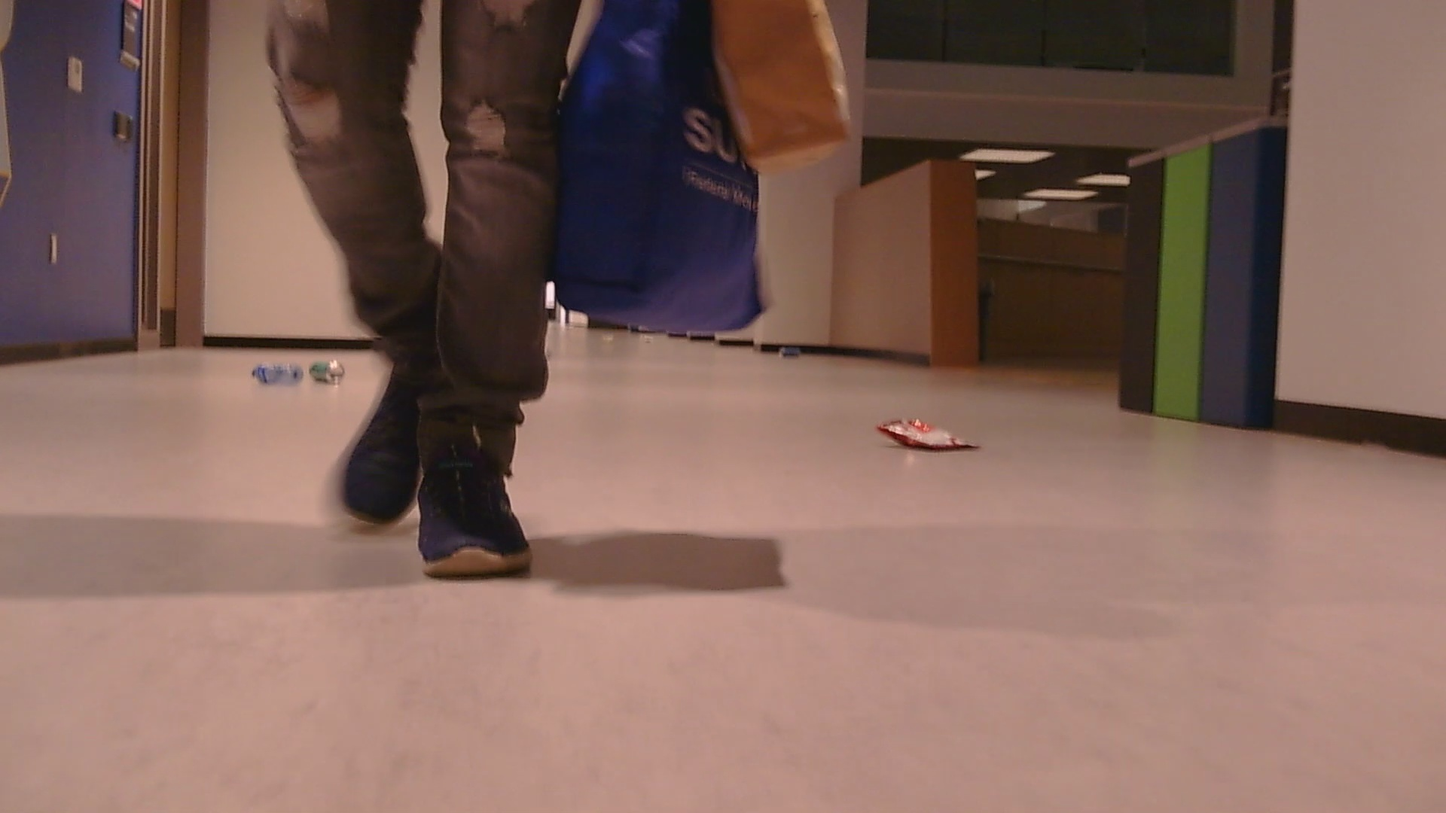carton: (872, 391, 983, 471), (246, 349, 305, 401), (313, 348, 346, 398)
